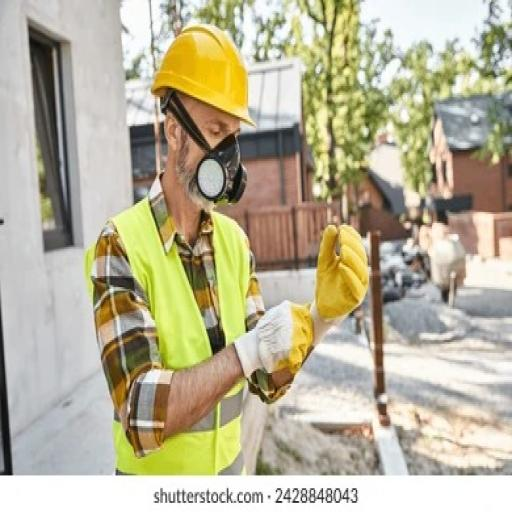mask: (196, 131, 256, 222)
